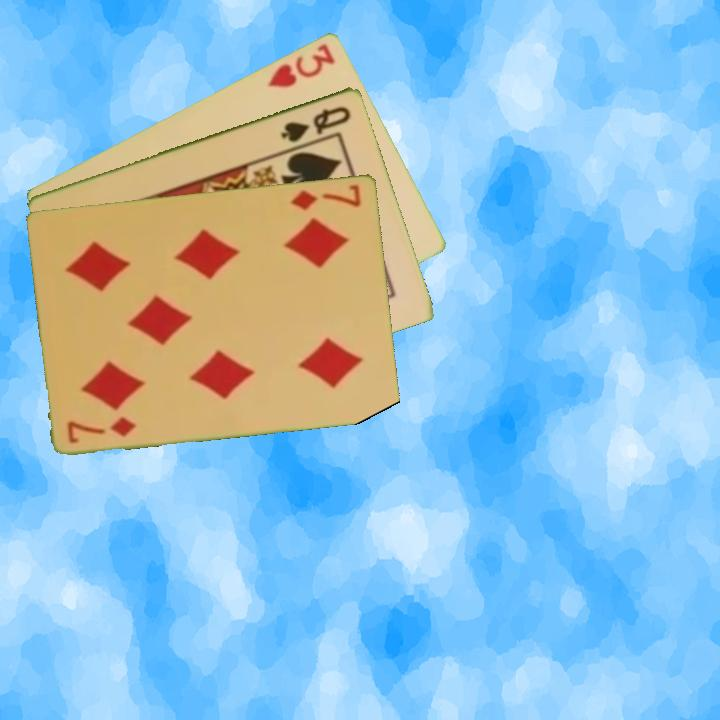3h: (264, 39, 338, 90)
7d: (288, 180, 365, 213), (64, 413, 140, 446)
Qs: (277, 102, 354, 145)
